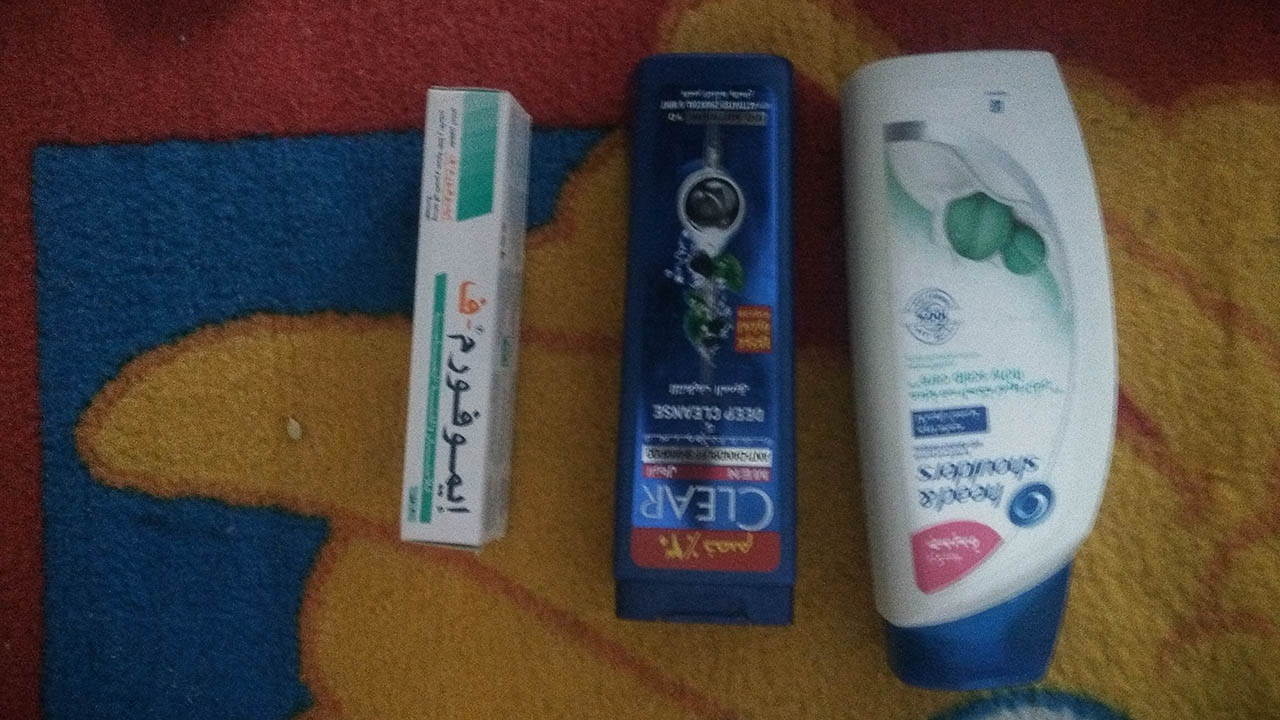Shampoo-Clear 4.7$: (602, 28, 818, 642)
Toothpaste-F 1.5$: (387, 61, 535, 567)
shampoo-green 4.5$: (824, 42, 1121, 698)
